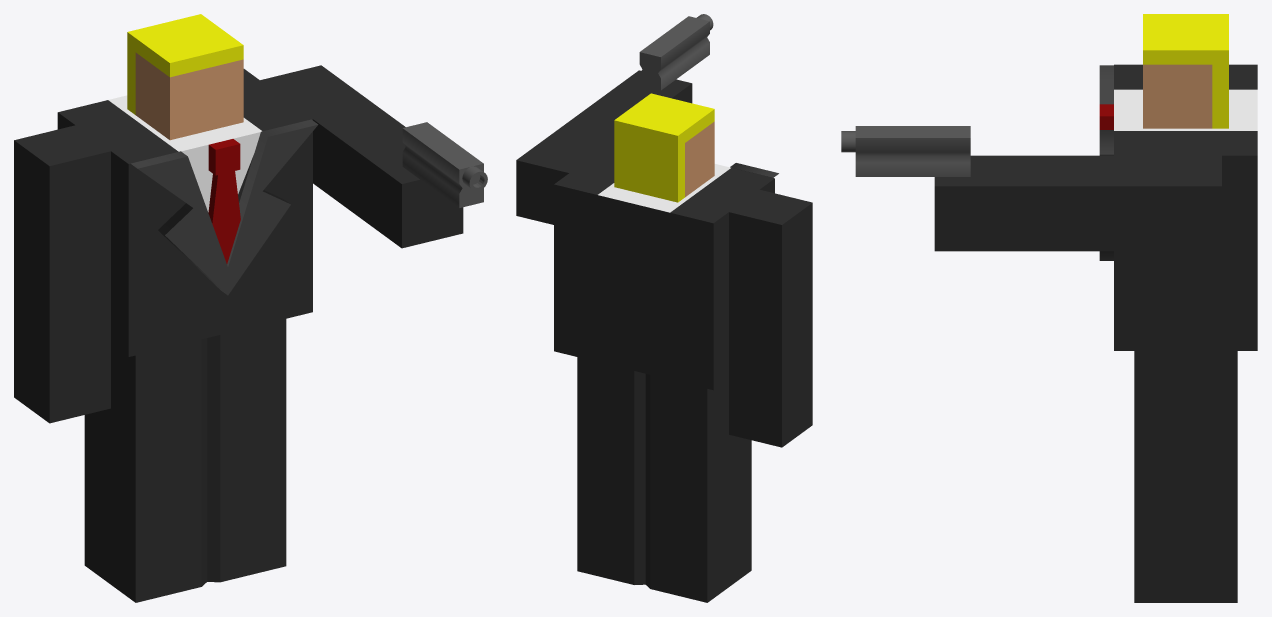
File: police_gun.FBX
The picture shows the model from 3 angles, left to right: view 1: azimuth 30°, elevation 25°; view 2: azimuth 150°, elevation 25°; view 3: azimuth 270°, elevation 25°; orthographic projection. The views are drawn at different scales.
Visible parts, largest first — view 1: Box001, Box002, Box003, Box004, Box005, Box008, Box007, Box006; view 2: Box001, Box002, Box004, Box003, Box008; view 3: Box001, Box003, Box004, Box008, Box005.
Boxes of the visible parts, x1=… form: Box001: x1=57, y1=69, x2=312, y2=602; Box002: x1=14, y1=125, x2=110, y2=423; Box003: x1=260, y1=65, x2=463, y2=248; Box004: x1=127, y1=14, x2=243, y2=140; Box005: x1=131, y1=119, x2=318, y2=295; Box008: x1=402, y1=122, x2=487, y2=207; Box007: x1=208, y1=171, x2=240, y2=263; Box006: x1=208, y1=139, x2=240, y2=175; Box001: x1=554, y1=140, x2=774, y2=602; Box002: x1=729, y1=189, x2=812, y2=447; Box004: x1=614, y1=93, x2=714, y2=202; Box003: x1=516, y1=70, x2=692, y2=224; Box008: x1=639, y1=14, x2=713, y2=90; Box001: x1=1114, y1=64, x2=1257, y2=602; Box003: x1=934, y1=155, x2=1221, y2=251; Box004: x1=1143, y1=14, x2=1228, y2=128; Box008: x1=841, y1=126, x2=970, y2=176; Box005: x1=1099, y1=65, x2=1113, y2=260.
Bounding box in the file's own units: 25 × 41 × 29.
